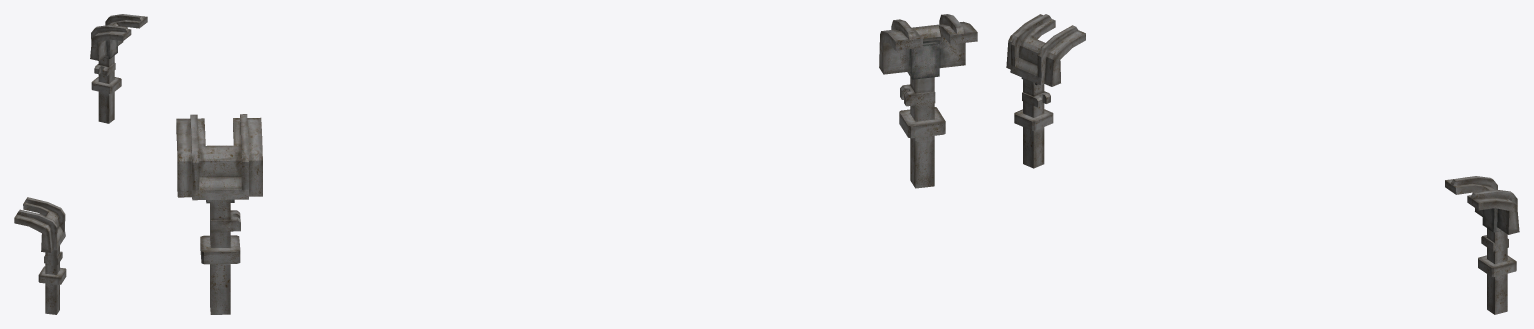
The model's file is mp_center piece arms new mesh3.glb.
3 views of the same model, side by side, from view 1: azimuth 30°, elevation 25°; view 2: azimuth 150°, elevation 25°; view 3: azimuth 270°, elevation 25° (orthographic). The views are drawn at different scales.
Visible parts, largest first — view 1: Cube_001, Cube_002, Cube_006, Cube_007; view 2: Cube_002, Cube_001, Cube_007, Cube_006; view 3: Cube_001, Cube_002, Cube_007, Cube_006.
Part boxes in pixels (<box>): Cube_001: <box>14,197,65,252</box>; Cube_002: <box>90,14,147,60</box>; Cube_006: <box>91,55,121,123</box>; Cube_007: <box>38,246,66,314</box>; Cube_002: <box>176,114,262,203</box>; Cube_001: <box>879,14,977,79</box>; Cube_007: <box>899,77,945,188</box>; Cube_006: <box>200,199,240,314</box>; Cube_001: <box>1006,14,1085,86</box>; Cube_002: <box>1445,176,1519,234</box>; Cube_007: <box>1014,78,1053,168</box>; Cube_006: <box>1478,228,1516,314</box>.
Bounding box in the file's own units: 4.8 × 1.56 × 5.49.
Materials: 1 (1 with a texture image).
